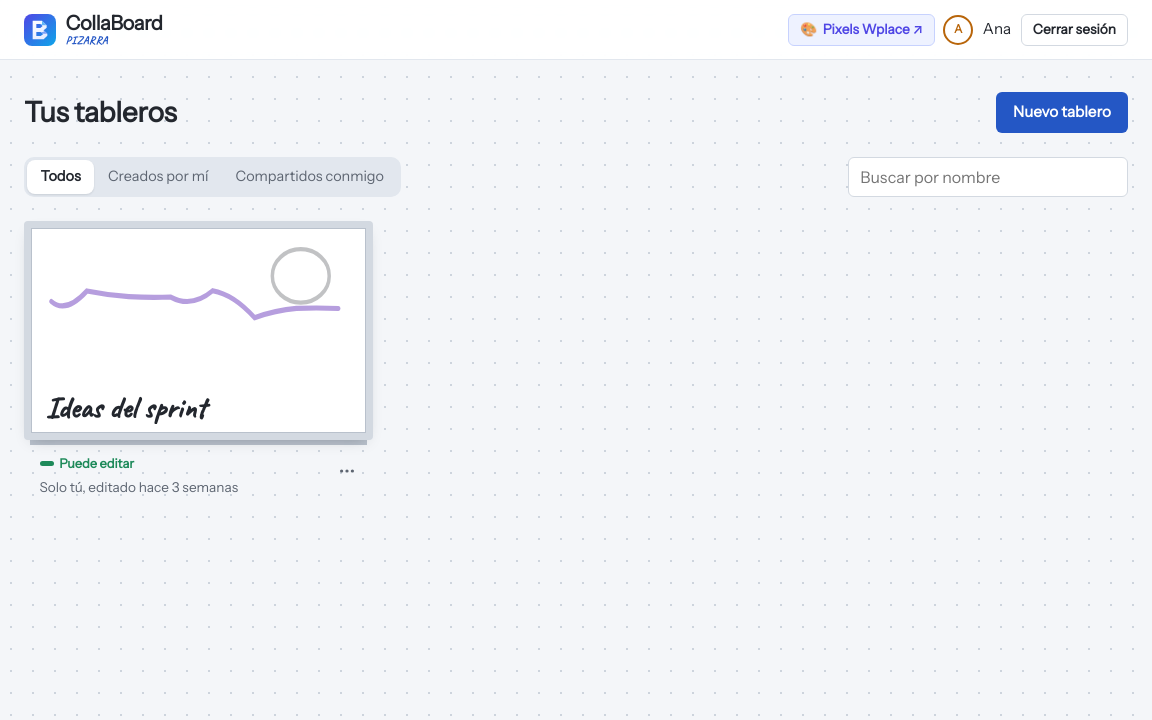
Dashboard › el editor no ve Renombrar ni Borrar, sino Salir
Click the button named "Opciones de". click: (347, 471)
box: [330,454,364,488]
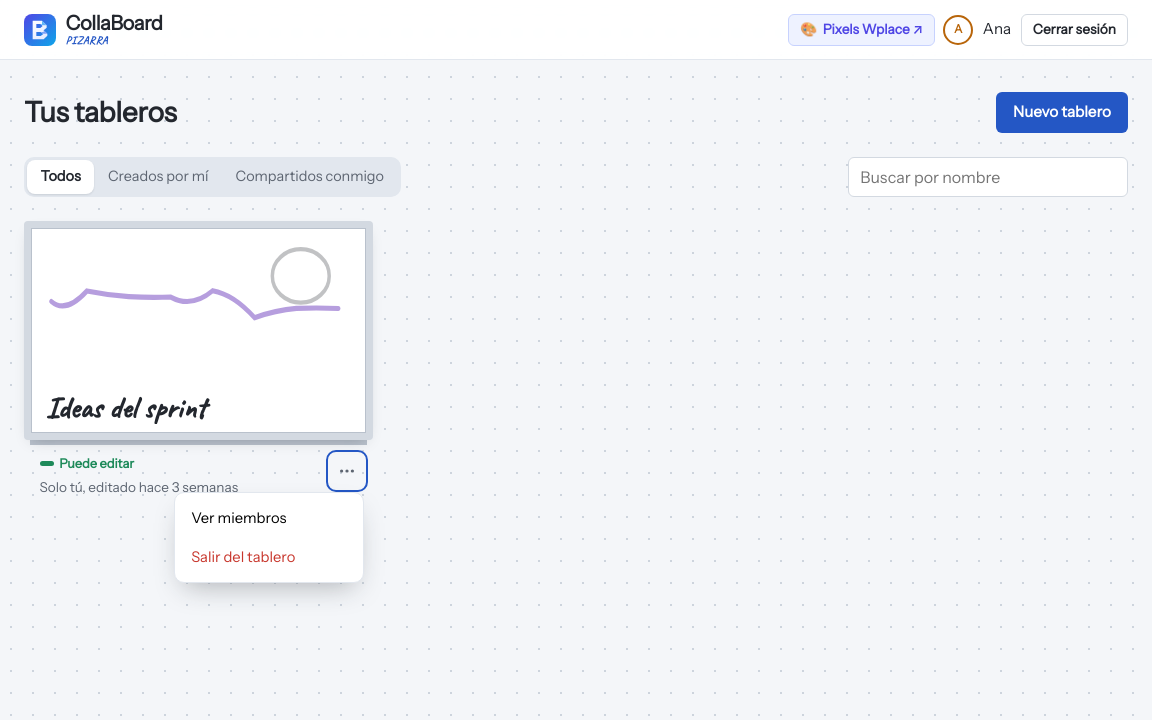
Expected: the menu item "Salir del tablero" is shown, [180,538,358,577]
